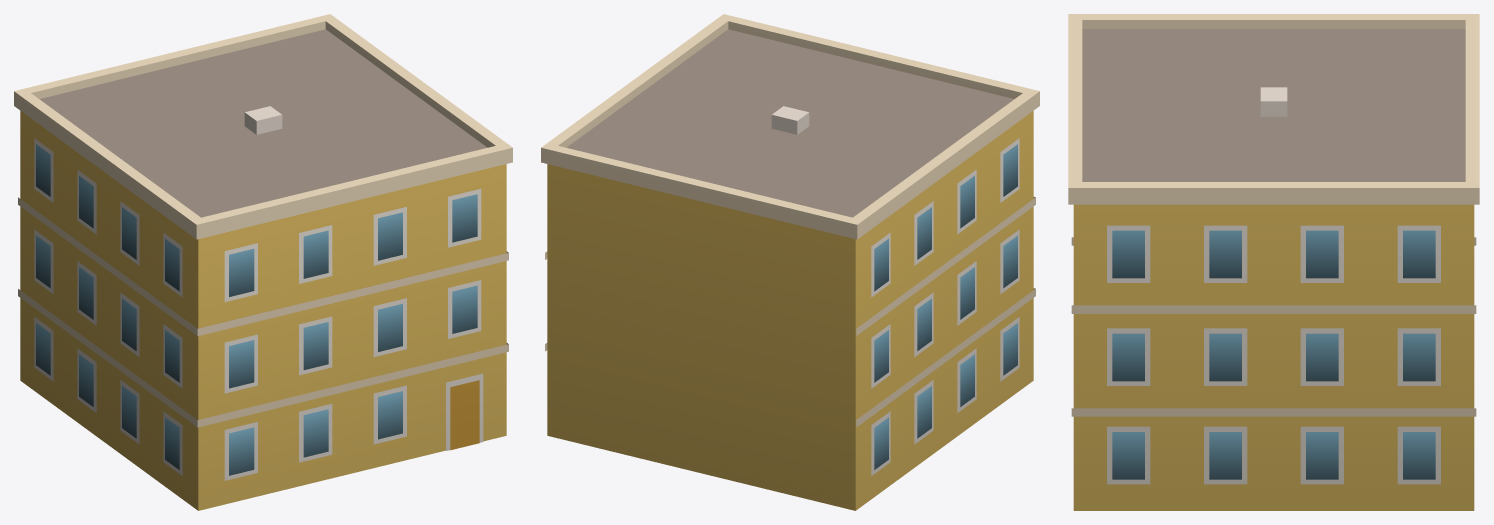
Rendered from vee_rightb4_far.glb.
The picture shows the model from 3 angles, left to right: view 1: azimuth 30°, elevation 25°; view 2: azimuth 150°, elevation 25°; view 3: azimuth 270°, elevation 25°; orthographic projection. The views are drawn at different scales.
Parts seen in each view (by area): view 1: vee_rightb4_far; view 2: vee_rightb4_far; view 3: vee_rightb4_far.
Part boxes in pixels (x1,y1,x2,y2): vee_rightb4_far: [14, 14, 512, 510]; vee_rightb4_far: [541, 14, 1039, 510]; vee_rightb4_far: [1068, 14, 1479, 510].
Size of the model in its own units: 12.32 by 10.97 by 12.32.
Materials: 1 (1 with a texture image).
